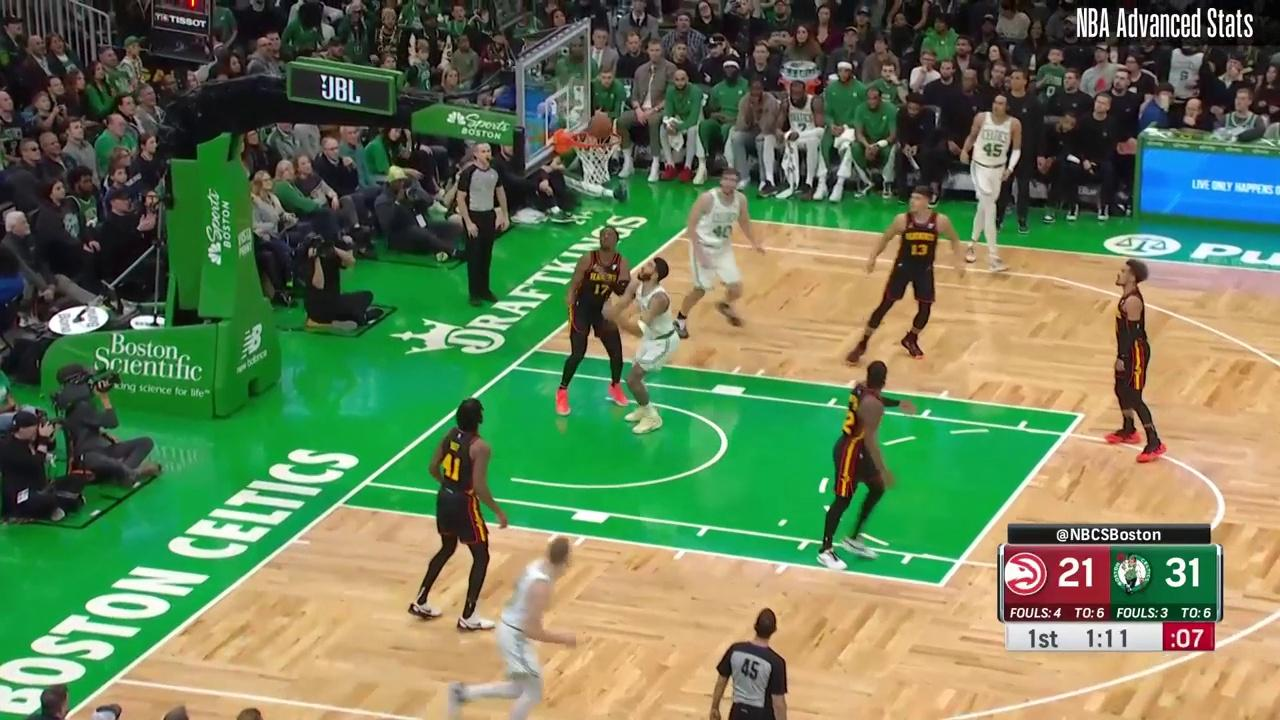3_dx: (667, 231, 686, 243)
3_sx: (106, 673, 126, 688)
free_adx: (1069, 406, 1091, 423)
free_asx: (933, 577, 949, 595)
free_bdx: (529, 343, 541, 355)
free_bsx: (332, 498, 347, 514)
referee: (707, 607, 789, 720), (458, 140, 510, 308)
team: (450, 534, 577, 720), (670, 168, 768, 338), (606, 258, 677, 437), (960, 91, 1024, 273)
team1: (410, 397, 503, 630), (844, 183, 964, 362), (817, 361, 913, 569), (1104, 257, 1168, 465), (558, 226, 628, 415)
timer: (1082, 626, 1136, 653)
